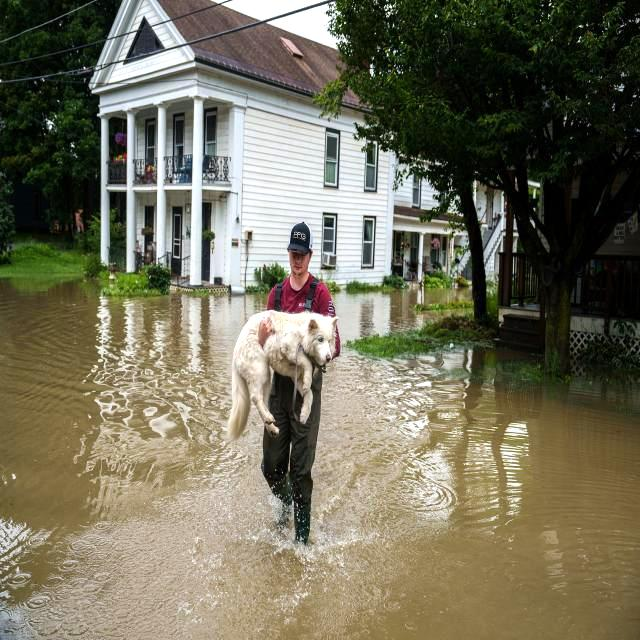civilian: (257, 221, 344, 550)
dog: (219, 307, 349, 447)
